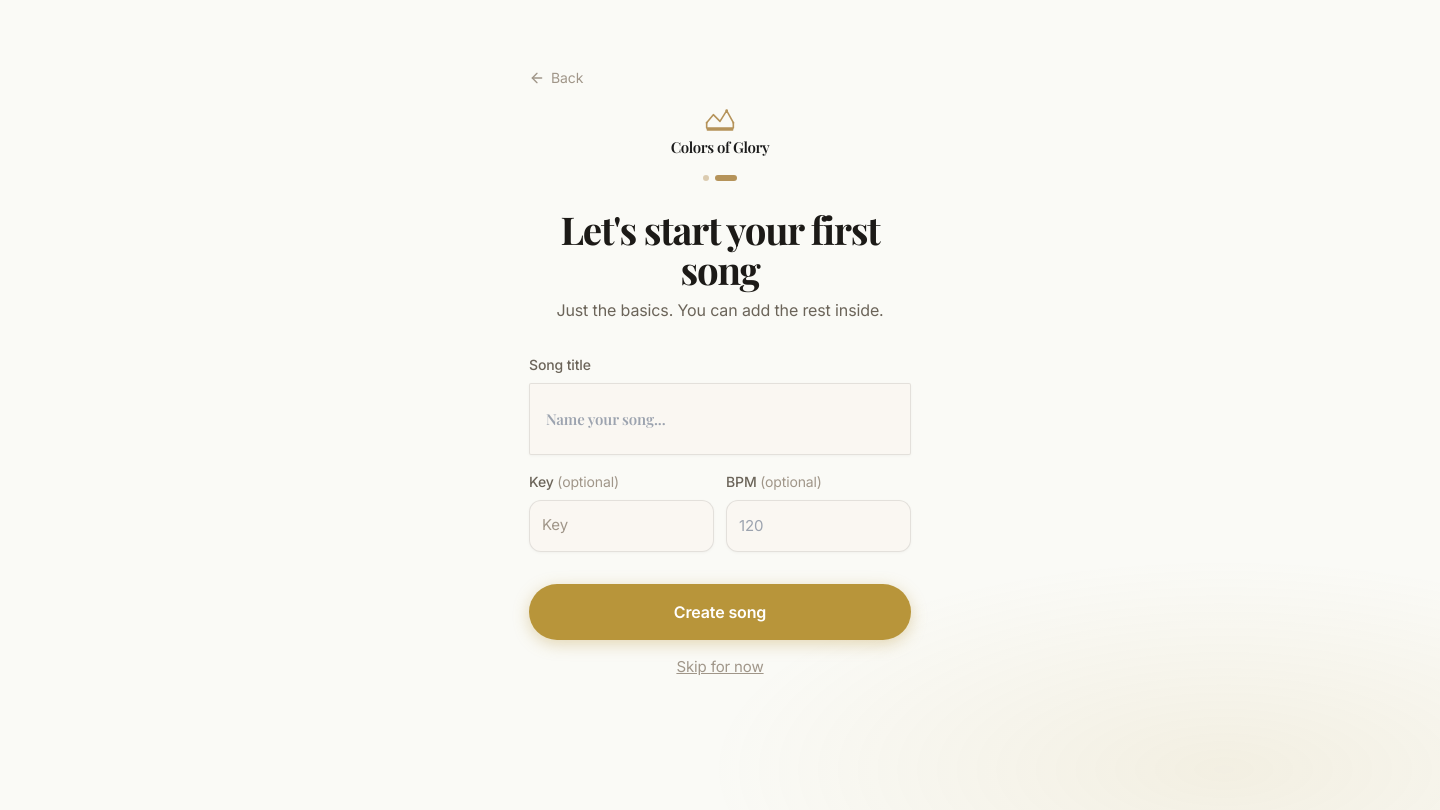
Scenario: StartFirstSongPage — first song creation › shows a retryable error (not the demo song) when createSong fails
Type "My Song" into the field labelled "Song title" at (720, 419), box [529,383,911,455]
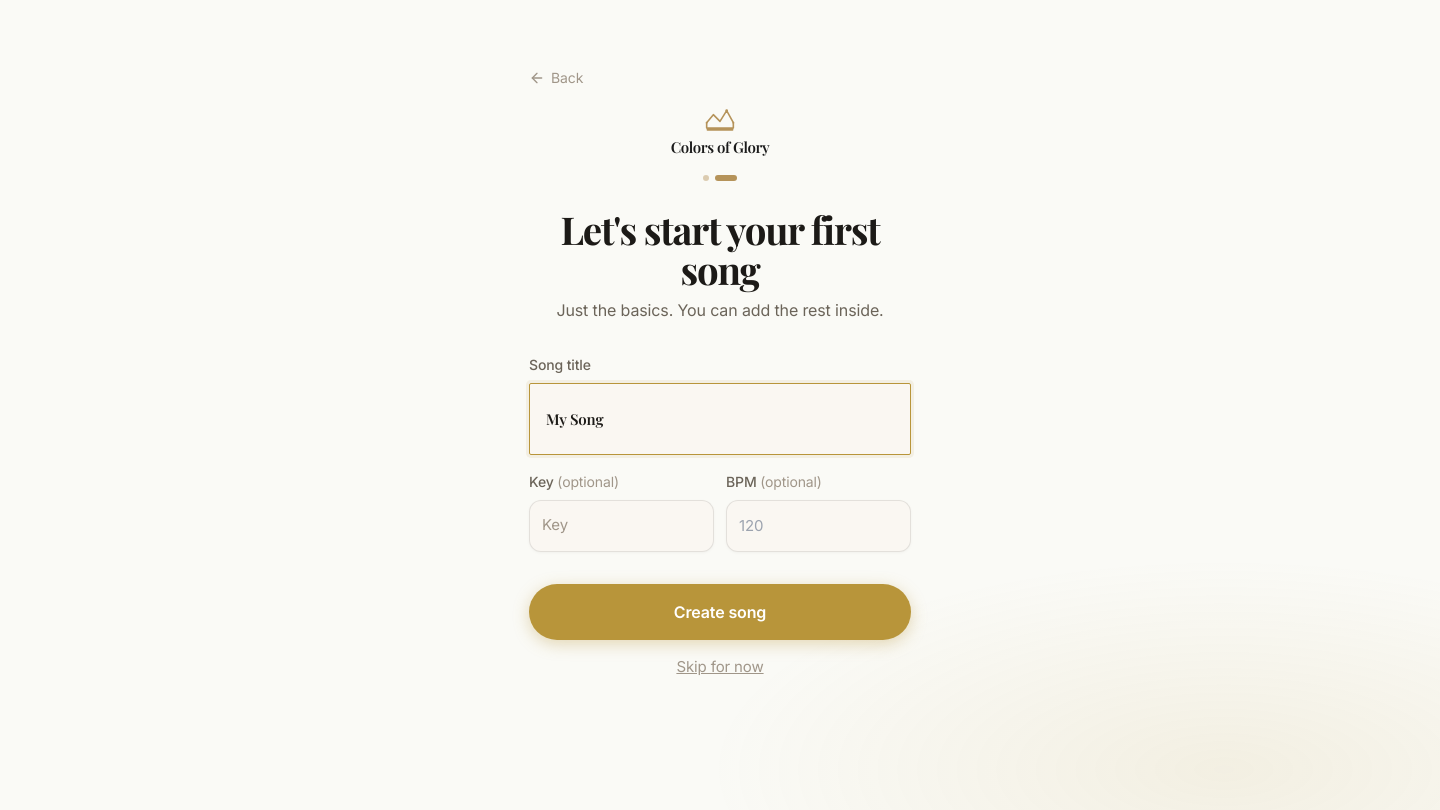
Click the button "Create song" at (720, 612), box [529,584,911,640]
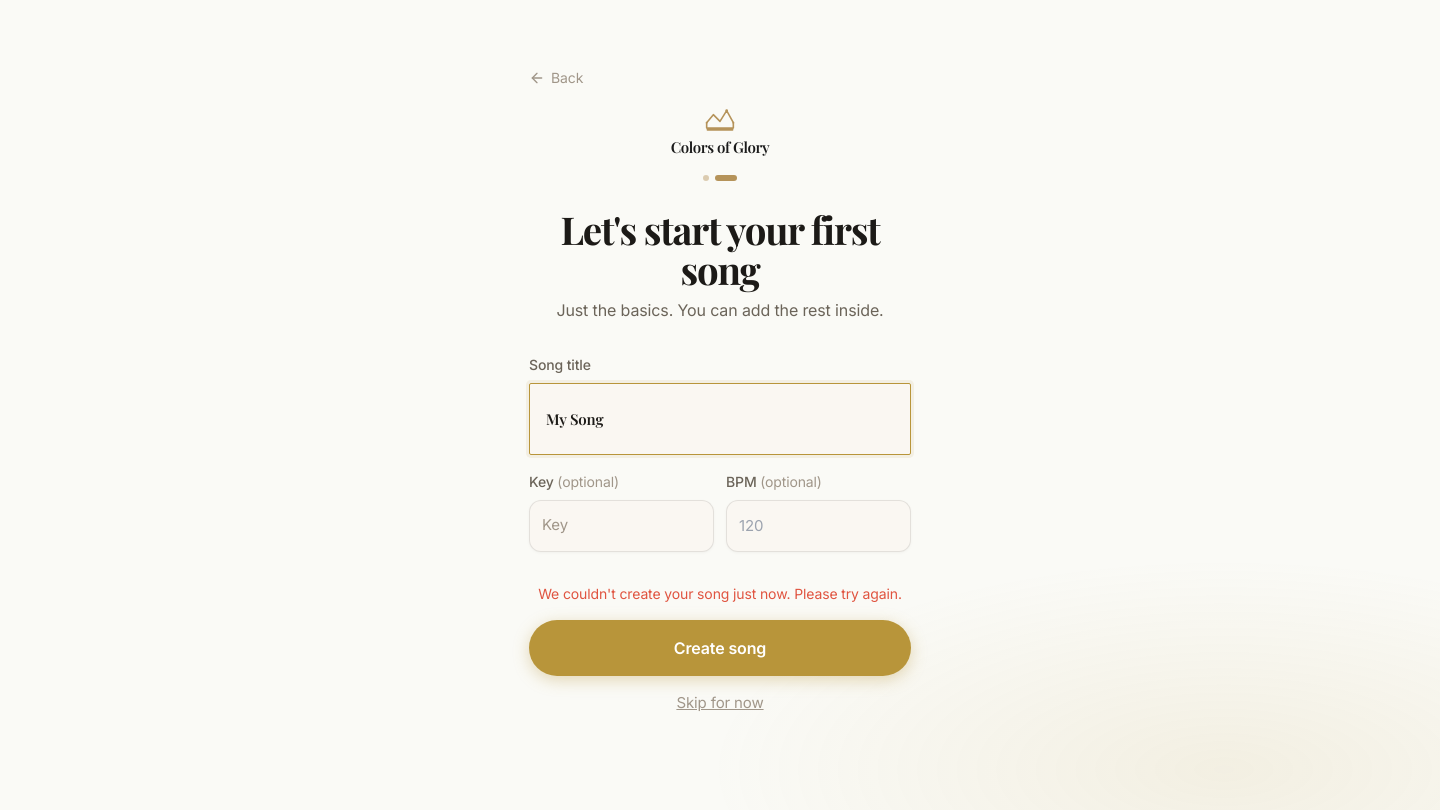
Now the message shows "couldn't create your song", box [538,585,902,602]
